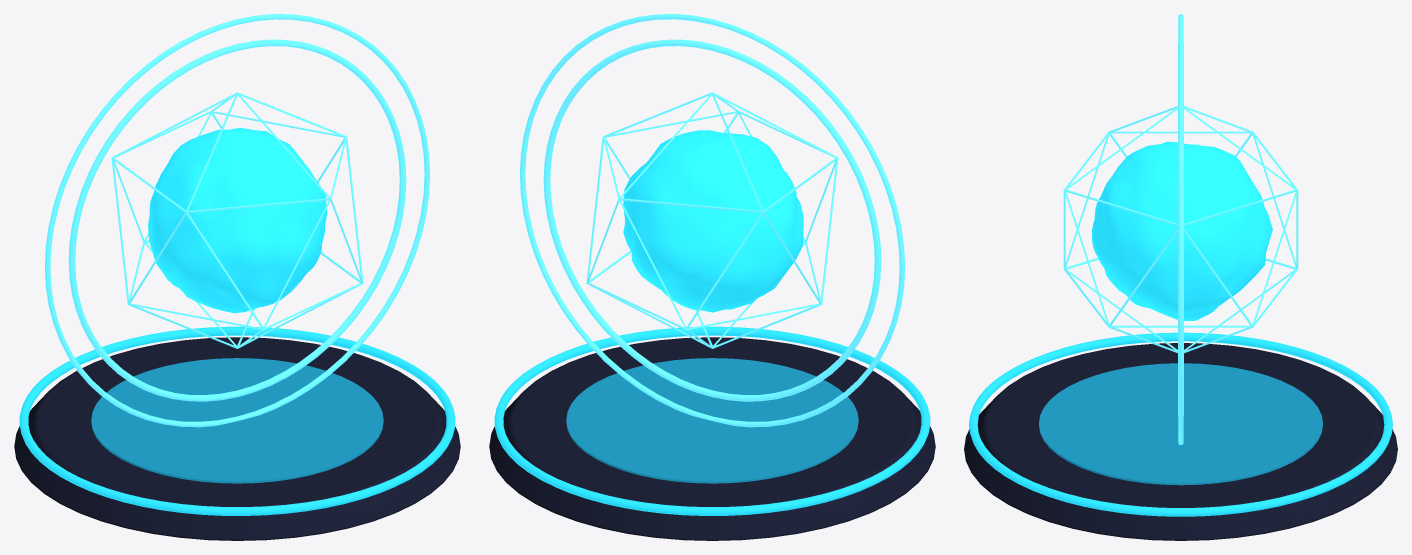
The model's file is brain.glb.
The picture shows the model from 3 angles, left to right: view 1: azimuth 30°, elevation 25°; view 2: azimuth 150°, elevation 25°; view 3: azimuth 270°, elevation 25°; orthographic projection. The views are drawn at different scales.
Parts seen in each view (by area): view 1: Pad, PadDisc, Core, PadGlow, Ring1, Ring2, Shell; view 2: Pad, PadDisc, Core, PadGlow, Ring1, Ring2, Shell; view 3: Pad, PadDisc, Core, PadGlow, Shell, Ring2, Ring1.
Boxes of the visible parts, x1=… form: Pad: x1=14, y1=337, x2=460, y2=540; PadDisc: x1=91, y1=358, x2=383, y2=483; Core: x1=148, y1=127, x2=327, y2=313; PadGlow: x1=19, y1=326, x2=455, y2=515; Ring1: x1=68, y1=39, x2=406, y2=401; Ring2: x1=45, y1=14, x2=429, y2=427; Shell: x1=111, y1=92, x2=363, y2=348; Pad: x1=489, y1=337, x2=935, y2=540; PadDisc: x1=566, y1=358, x2=858, y2=483; Core: x1=623, y1=130, x2=803, y2=312; PadGlow: x1=494, y1=326, x2=930, y2=515; Ring1: x1=543, y1=39, x2=881, y2=401; Ring2: x1=520, y1=14, x2=904, y2=427; Shell: x1=586, y1=92, x2=838, y2=348; Pad: x1=964, y1=343, x2=1397, y2=540; PadDisc: x1=1039, y1=363, x2=1322, y2=485; Core: x1=1092, y1=141, x2=1272, y2=320; PadGlow: x1=969, y1=332, x2=1392, y2=516; Shell: x1=1063, y1=106, x2=1298, y2=353; Ring2: x1=1178, y1=14, x2=1183, y2=444; Ring1: x1=1178, y1=43, x2=1183, y2=416.
Size of the model in its own units: 3.97 by 4.2 by 3.97.
